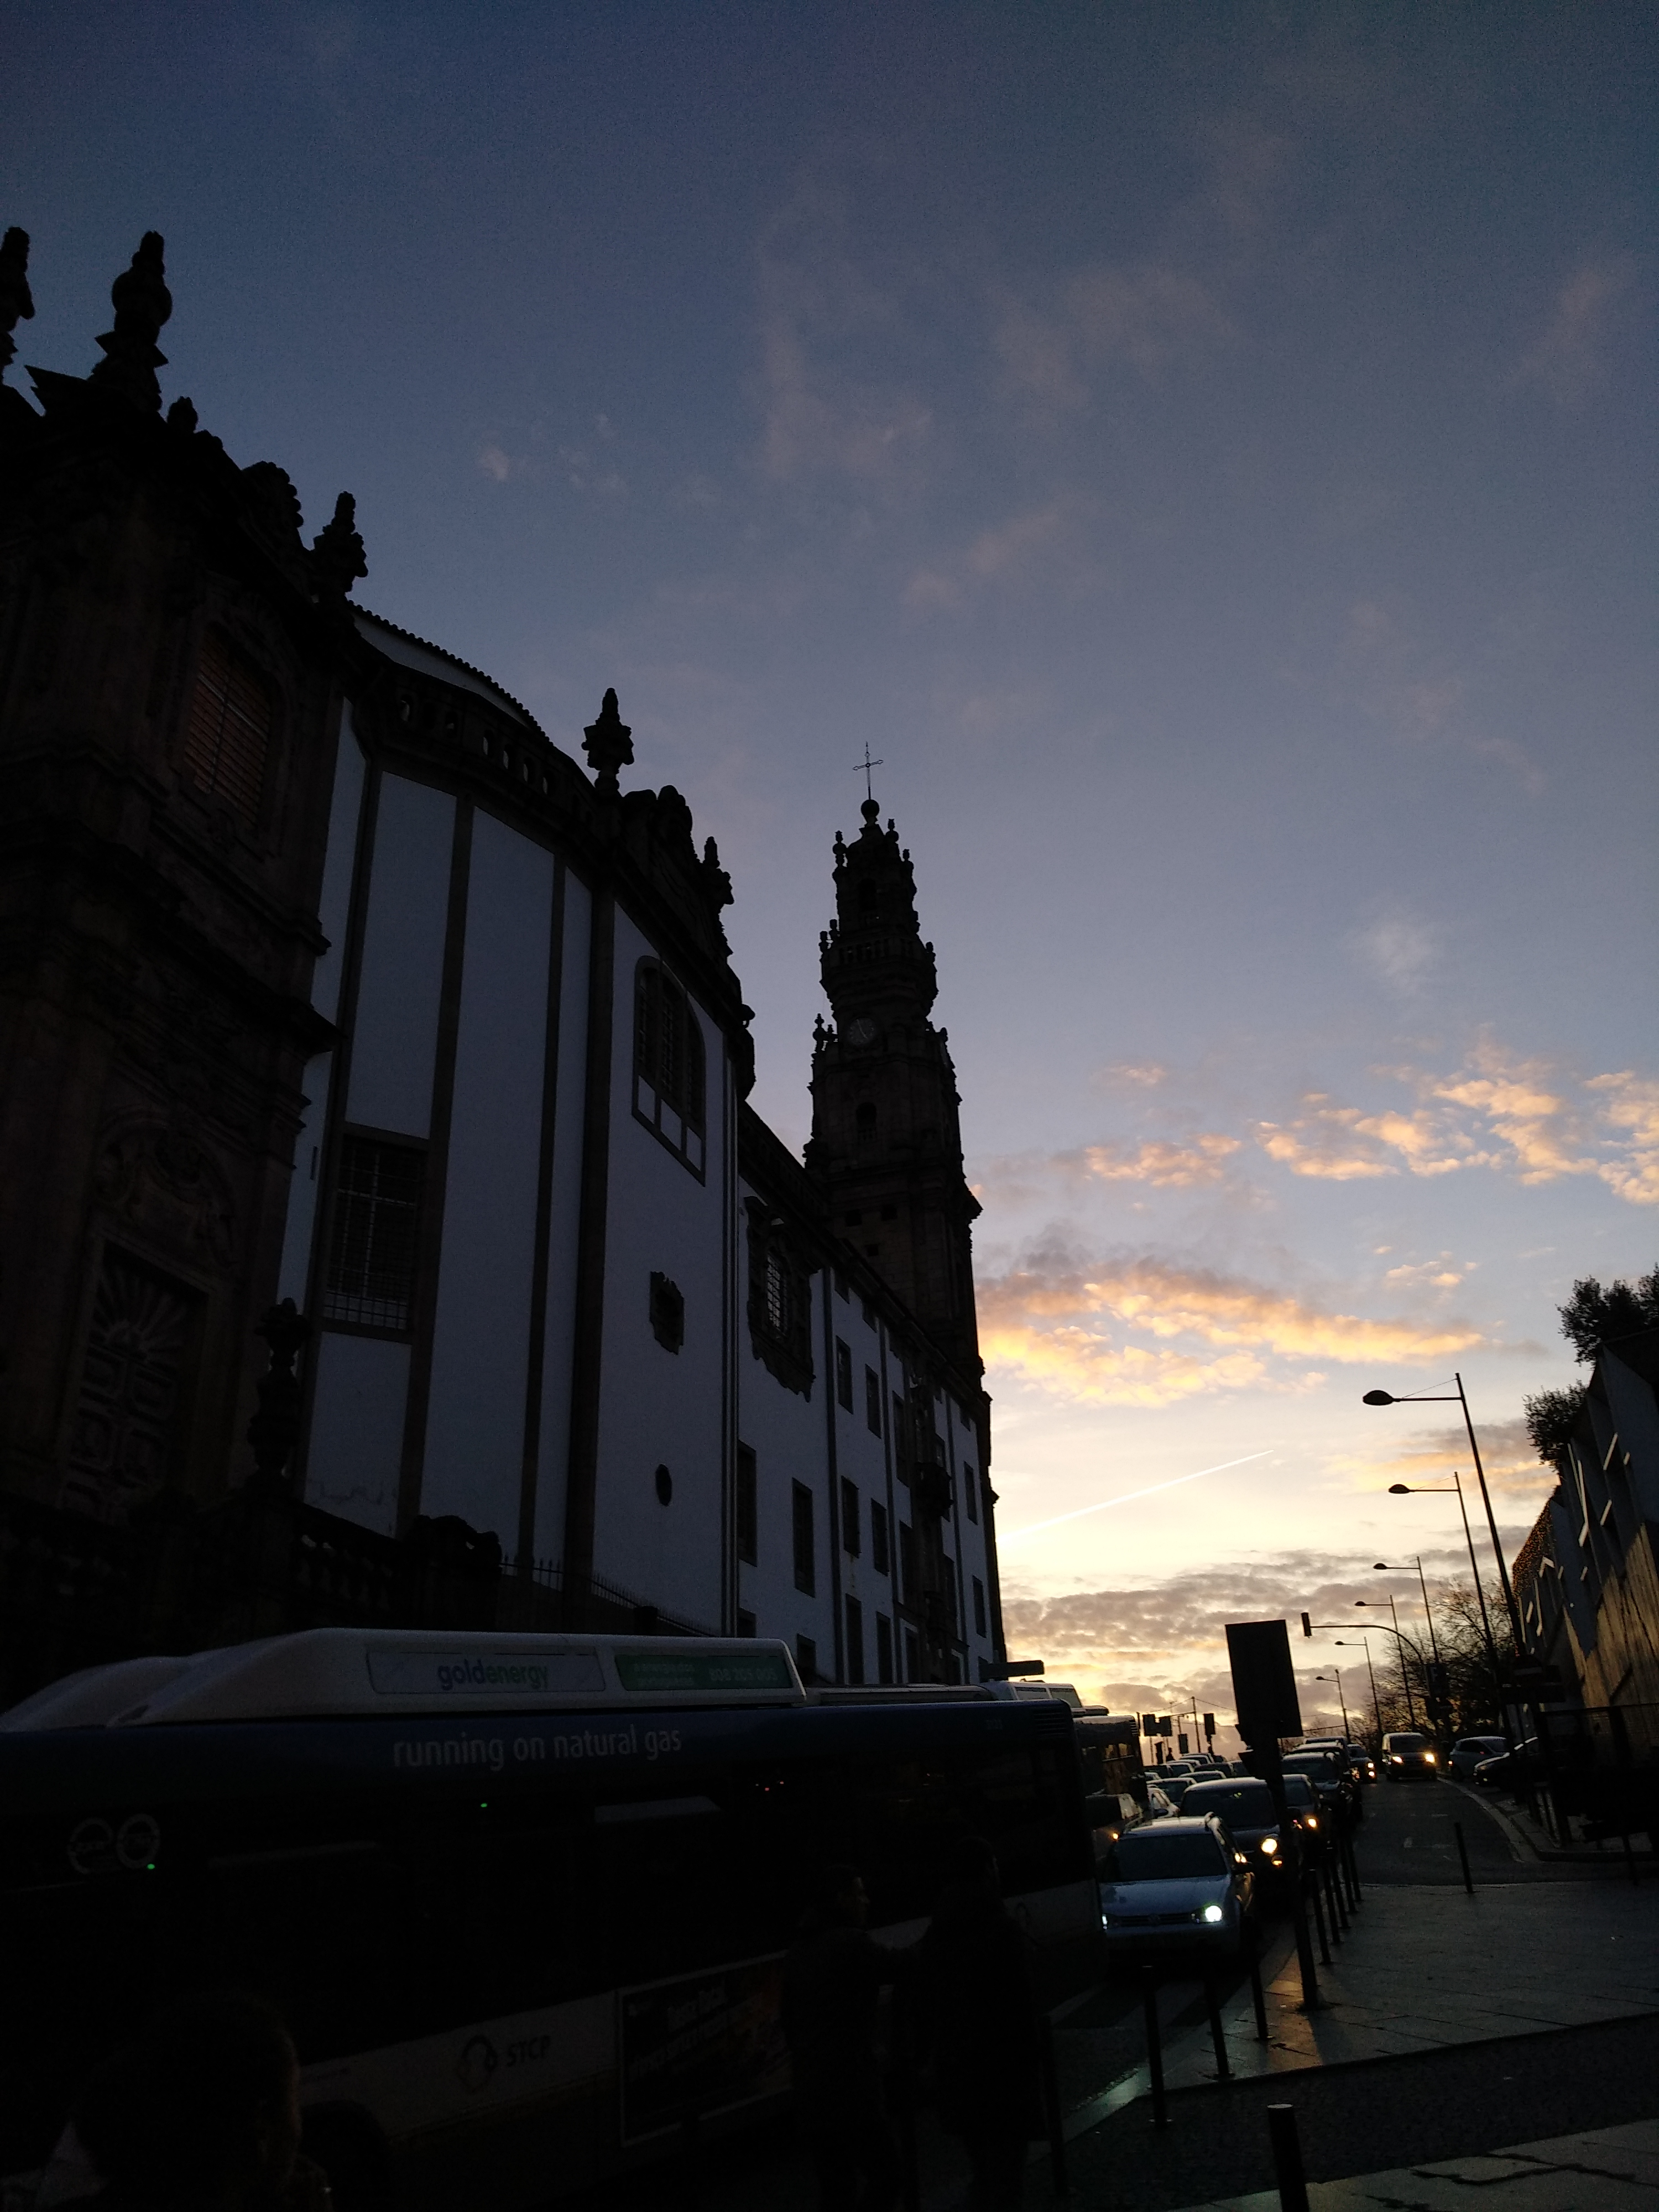clerigos: (774, 740, 1004, 1369)
